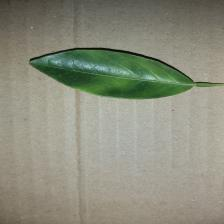greening: (28, 44, 224, 100)
